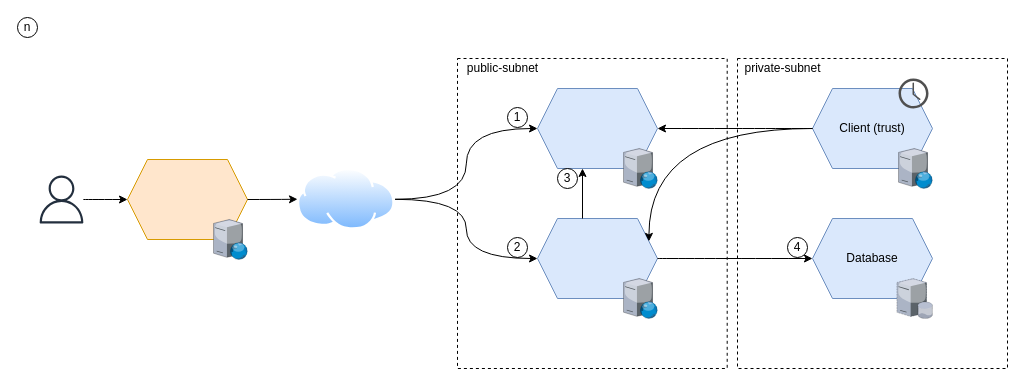
Some shapes in this 1025 by 386 pixel diagram are drawn without their labels. The box of each missing label's shape, as (x1, y1, x2, y2) in pixels:
Authorization Server: (536, 88, 658, 168)
Clietn (untrust): (126, 158, 248, 240)
Resource Server: (536, 218, 658, 298)
